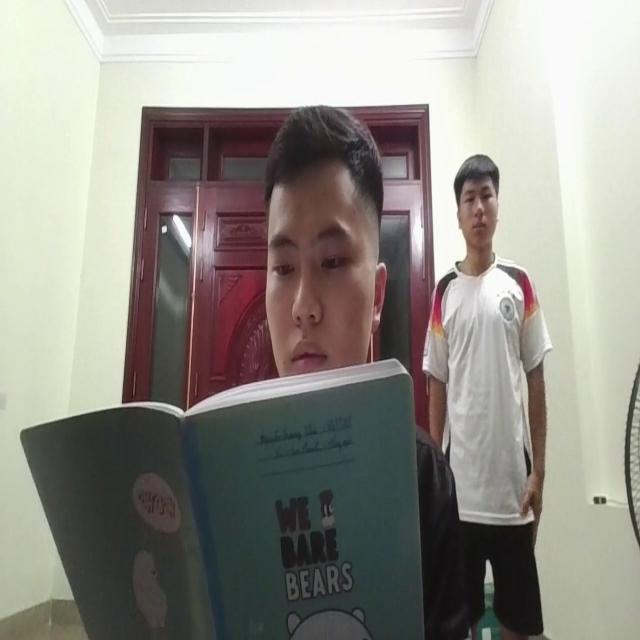book: (24, 369, 416, 640)
extra_person: (424, 153, 542, 611)
student: (259, 92, 381, 377)
